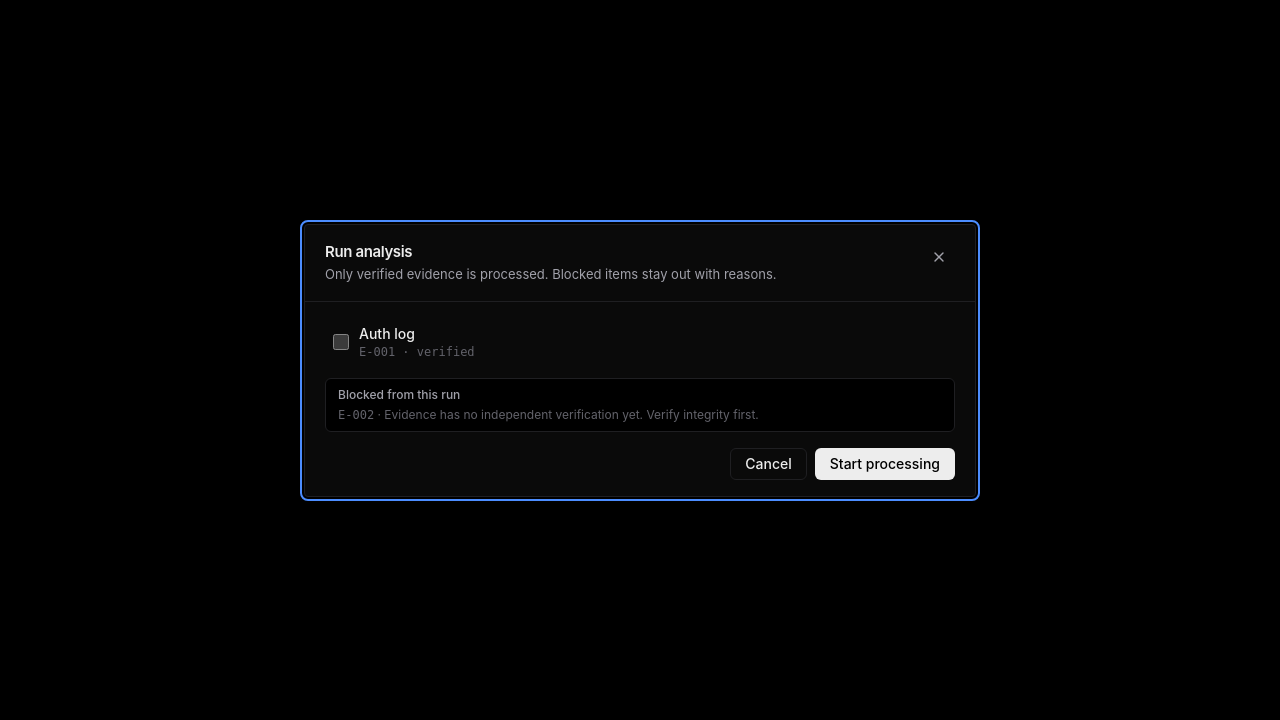
RunAnalysisDialog › requires a selection before starting
This screenshot has width=1280, height=720.
Click the button "Start processing". click: [885, 464]
box: [815,448,955,480]
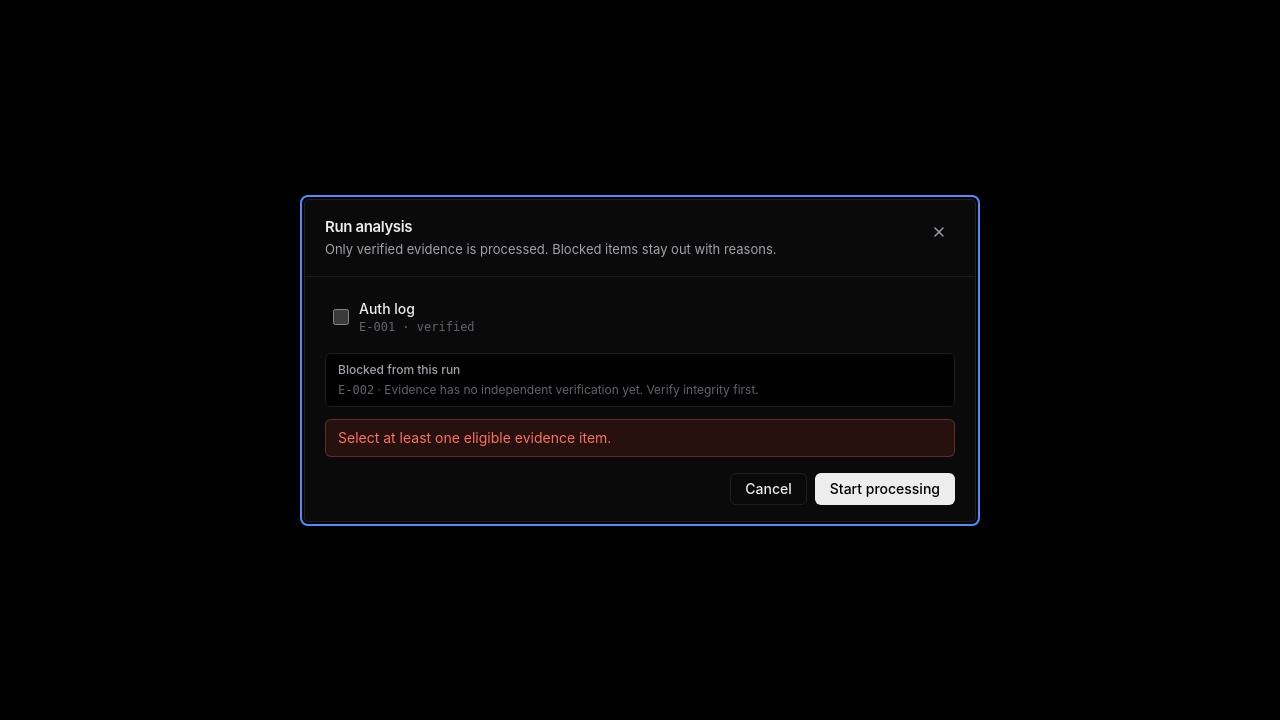
expect the text "Select at least one eligible evidence item." is shown: met, box [325,418,955,456]
